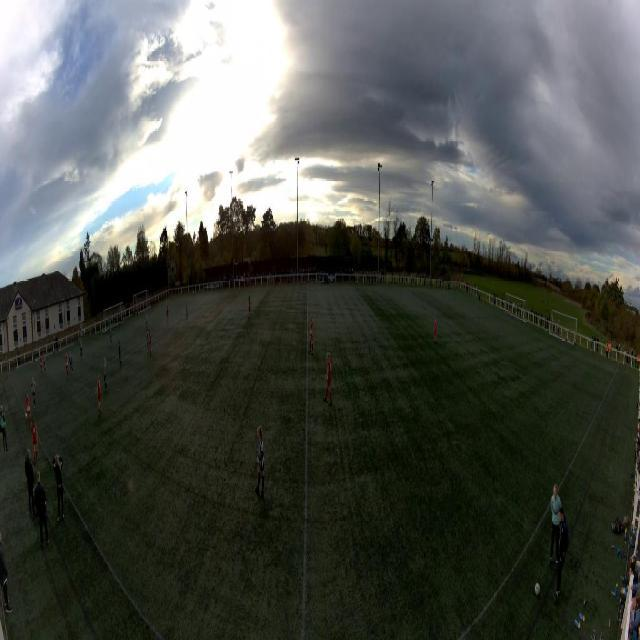player: (255, 424, 266, 498), (324, 351, 333, 408), (96, 376, 102, 417), (309, 315, 314, 354), (30, 377, 36, 408), (103, 356, 108, 393), (65, 353, 70, 380), (117, 340, 122, 367), (433, 316, 437, 343), (248, 296, 252, 318), (69, 351, 73, 373), (40, 354, 44, 376), (149, 328, 152, 356), (146, 328, 149, 355), (43, 352, 46, 374), (80, 338, 83, 358), (167, 305, 169, 325), (110, 327, 112, 345), (145, 313, 147, 330), (186, 302, 188, 319), (109, 317, 111, 331)
